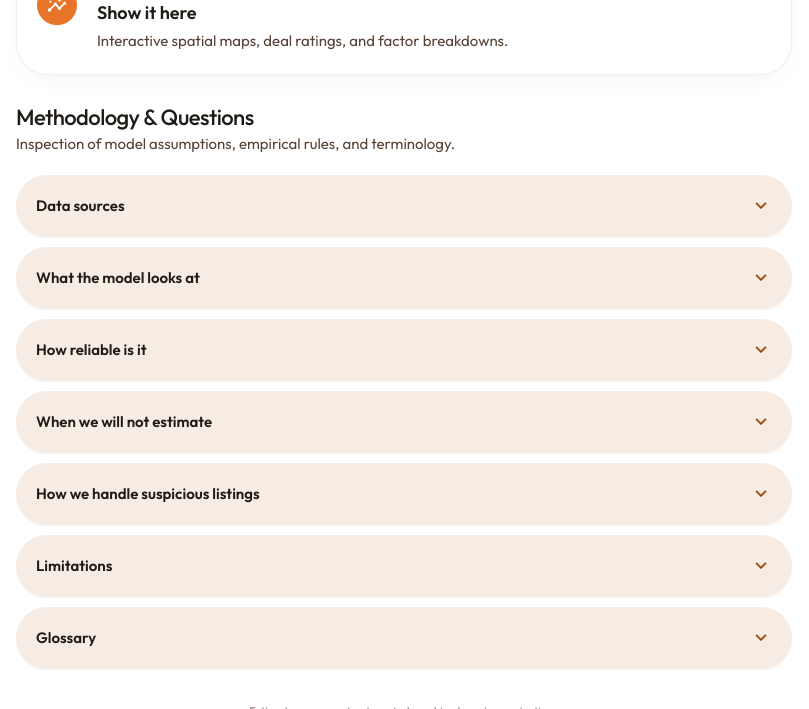
Test: P8b (d): live-system stats follow the mocked metrics › renders MedAPE, coverage, and the level from the response
The image size is (809, 709).
(page scrolled)
Click the button "How reliable is it": (91, 349) [16, 319, 792, 381]
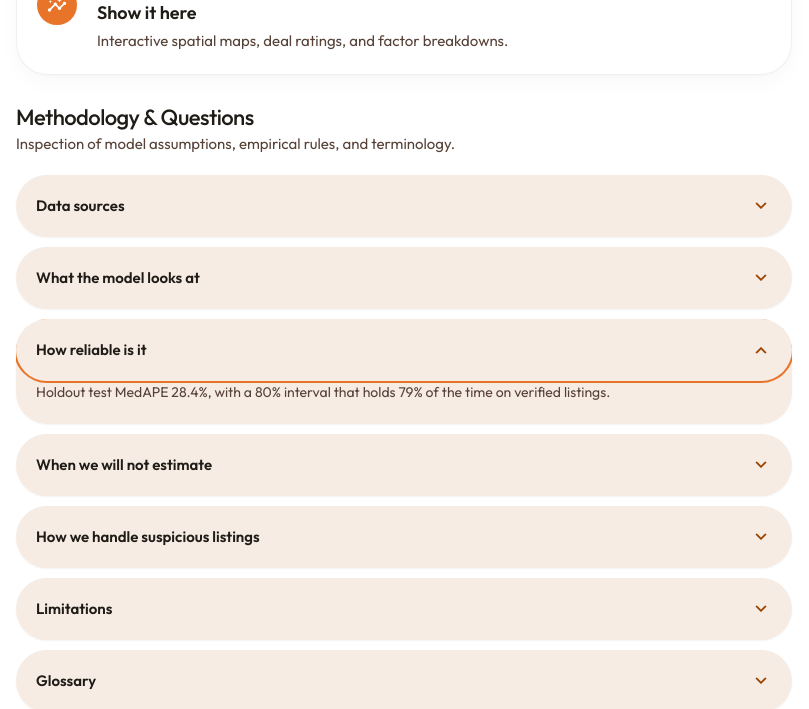
Expected: the text "Holdout test MedAPE 28.4%, with a 80% interval that holds 79%" is shown, [36, 383, 610, 401]
